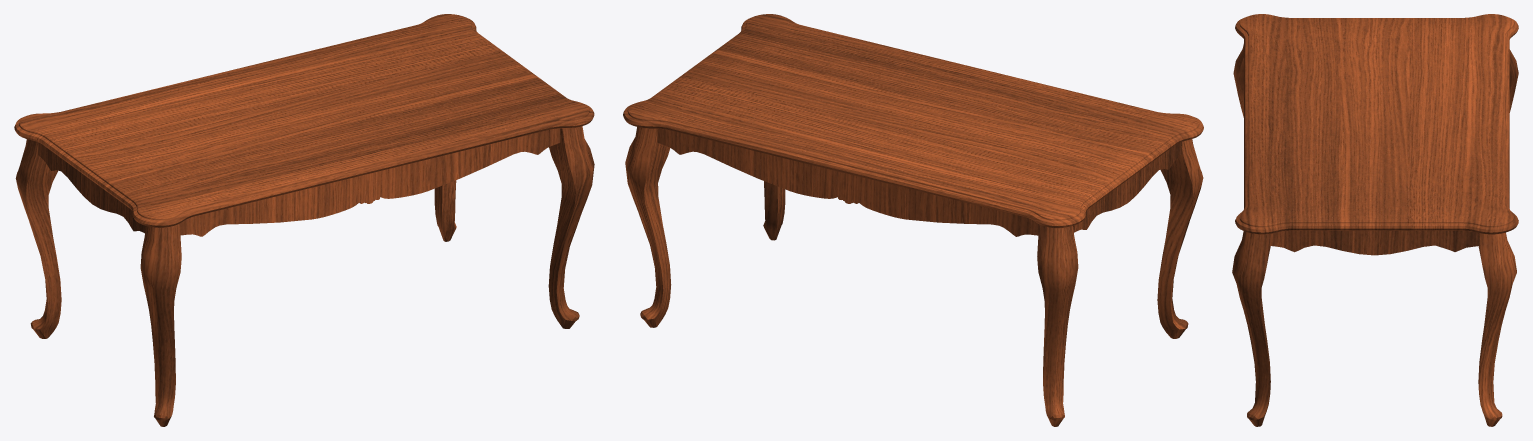
File: europeandiningtable-brownwood.glb
The picture shows the model from 3 angles, left to right: view 1: azimuth 30°, elevation 25°; view 2: azimuth 150°, elevation 25°; view 3: azimuth 270°, elevation 25°; orthographic projection. The views are drawn at different scales.
Parts seen in each view (by area): view 1: Silver Table; view 2: Silver Table; view 3: Silver Table.
Part boxes in pixels (<box>): Silver Table: <box>14,14,594,426</box>; Silver Table: <box>623,14,1203,426</box>; Silver Table: <box>1232,14,1518,426</box>.
Bounding box in the file's own units: 1.63 × 0.7398 × 0.9136.
1 material, 1 textured.
